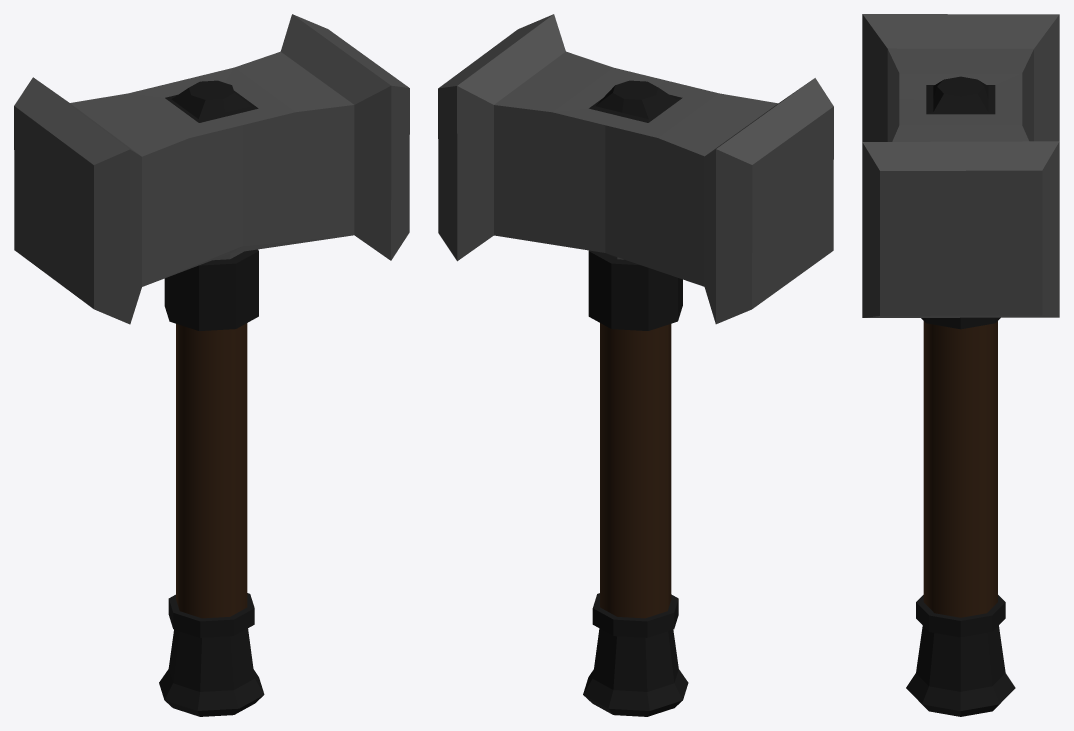
The model's file is Hammer_Small_002.fbx.
The picture shows the model from 3 angles, left to right: view 1: azimuth 30°, elevation 25°; view 2: azimuth 150°, elevation 25°; view 3: azimuth 270°, elevation 25°; orthographic projection.
Visible parts, largest first — view 1: Hammer_Small.002; view 2: Hammer_Small.002; view 3: Hammer_Small.002.
Part boxes in pixels (x1=…): Hammer_Small.002: x1=14, y1=14, x2=409, y2=716; Hammer_Small.002: x1=438, y1=14, x2=833, y2=716; Hammer_Small.002: x1=862, y1=14, x2=1059, y2=716.
Bounding box in the file's own units: 0.8937 × 1.67 × 0.4804.
